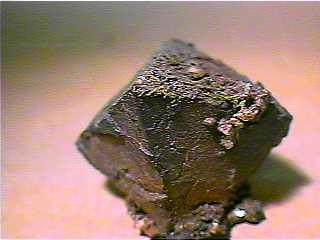magnetite: (82, 40, 293, 218)
